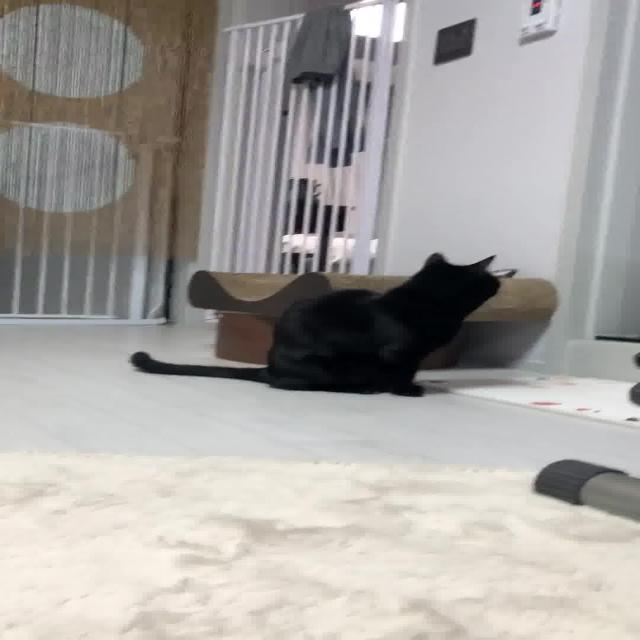cat: (101, 245, 545, 403)
